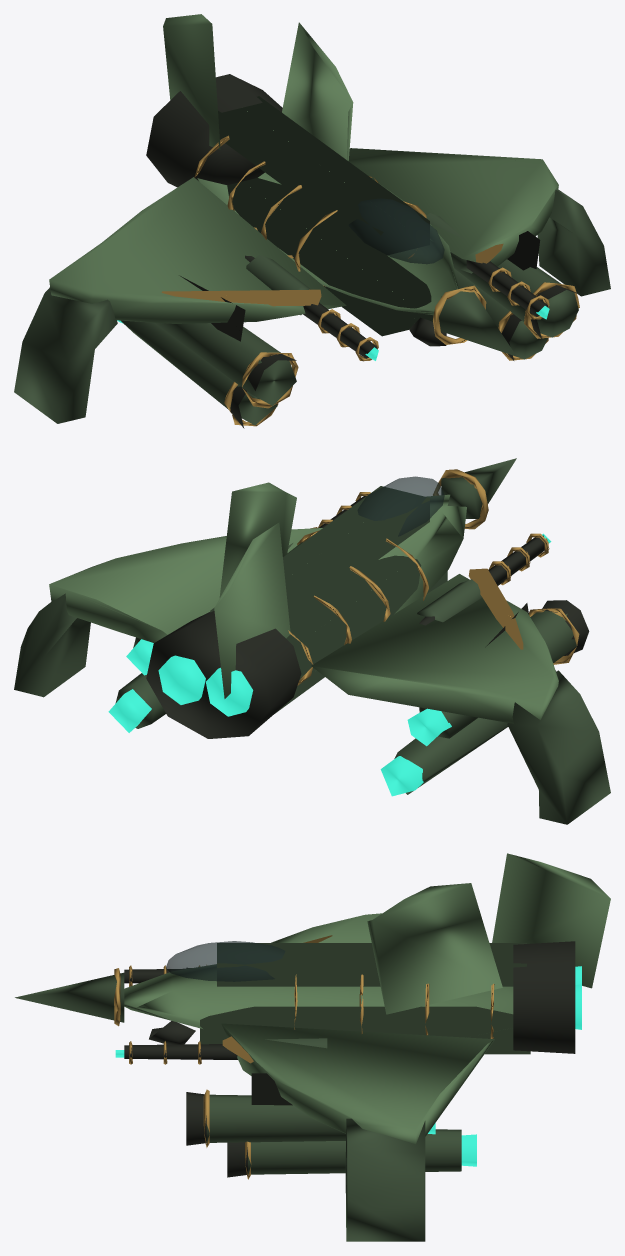
File: warbird-heavy-lod2.glb
The picture shows the model from 3 angles, top to bottom: view 1: azimuth 30°, elevation 25°; view 2: azimuth 150°, elevation 25°; view 3: azimuth 270°, elevation 25°; orthographic projection. The views are drawn at different scales.
Parts seen in each view (by area): view 1: object 1, nacelle_shell_1, cannon_barrel (×2), nacelle_shell_2, cannon_sleeve, nacelle_pylon_1; view 2: object 1, object 2, main_thruster_2, main_thruster_1, cannon_sleeve, cannon_barrel, plasma_exhaust_2, nacelle_shell_2, plasma_exhaust_1; view 3: object 1, nacelle_shell_1, nacelle_shell_2, cannon_barrel, nacelle_intake_1, nacelle_pylon_1, nacelle_intake_2.
Part boxes in pixels (bbox=[...]): object 1: bbox=[14, 14, 610, 428]; nacelle_shell_1: bbox=[453, 259, 578, 337]; cannon_barrel (×2): bbox=[245, 255, 547, 358]; nacelle_shell_2: bbox=[454, 268, 547, 359]; cannon_sleeve: bbox=[246, 254, 310, 315]; nacelle_pylon_1: bbox=[507, 231, 540, 270]; object 1: bbox=[14, 458, 610, 824]; object 2: bbox=[380, 708, 451, 796]; main_thruster_2: bbox=[158, 655, 205, 704]; main_thruster_1: bbox=[206, 667, 253, 716]; cannon_sleeve: bbox=[417, 579, 481, 622]; cannon_barrel: bbox=[419, 535, 544, 625]; plasma_exhaust_2: bbox=[108, 689, 151, 732]; nacelle_shell_2: bbox=[115, 673, 165, 728]; plasma_exhaust_1: bbox=[126, 639, 153, 675]; object 1: bbox=[15, 853, 610, 1241]; nacelle_shell_1: bbox=[206, 1094, 345, 1142]; nacelle_shell_2: bbox=[248, 1129, 461, 1174]; cannon_barrel: bbox=[124, 1044, 237, 1059]; nacelle_intake_1: bbox=[186, 1092, 206, 1145]; nacelle_pylon_1: bbox=[251, 1073, 292, 1105]; nacelle_intake_2: bbox=[227, 1142, 247, 1177].
Size of the model in its own units: 16.86 by 8.07 by 17.34.
